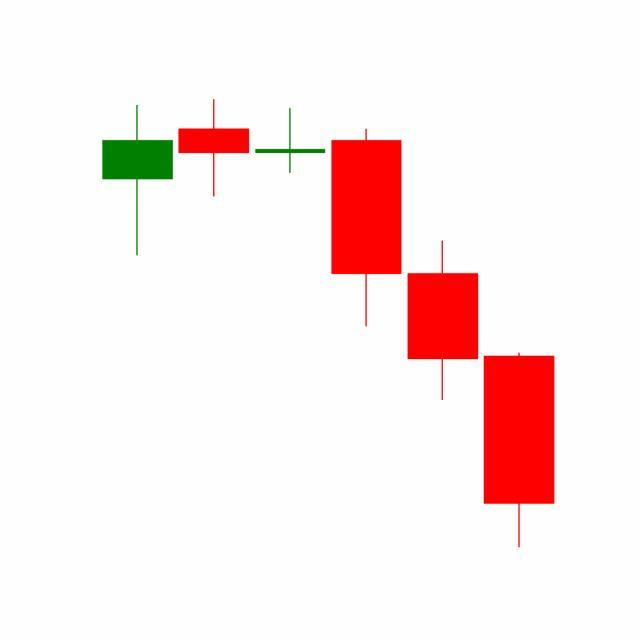Three Outside Up-Down: (252, 105, 482, 404)
